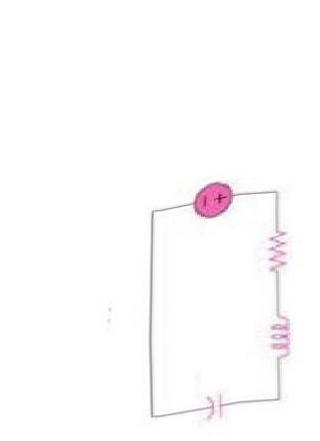Battery: (186, 161, 244, 235)
